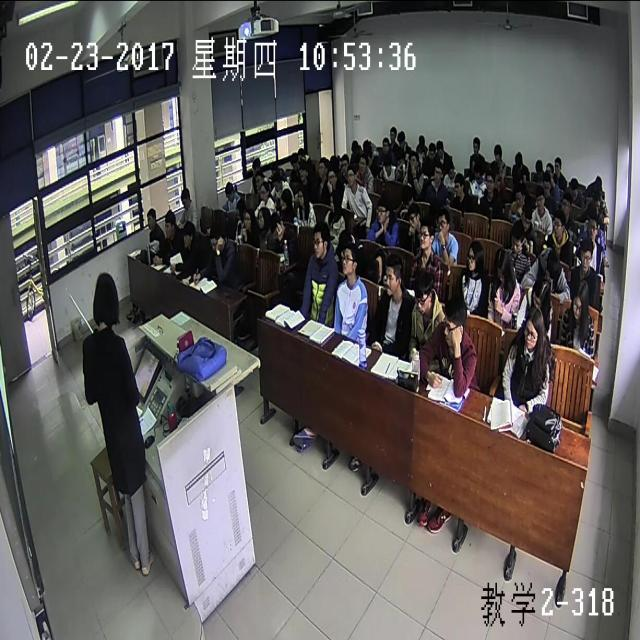person: (90, 270, 119, 329), (443, 294, 467, 346), (522, 302, 544, 352), (414, 268, 435, 315), (384, 254, 404, 299), (570, 279, 589, 323), (311, 218, 330, 256), (532, 281, 552, 317), (492, 246, 510, 284), (417, 217, 435, 252), (544, 246, 560, 284), (466, 242, 483, 274), (578, 238, 594, 272), (336, 226, 356, 253), (342, 242, 358, 275), (376, 192, 392, 224), (509, 221, 525, 252), (209, 224, 224, 256), (433, 206, 448, 238), (181, 220, 196, 250), (364, 254, 379, 284), (163, 209, 177, 239), (586, 214, 600, 244), (407, 202, 420, 234), (400, 184, 414, 212), (328, 186, 342, 213), (270, 209, 282, 239), (179, 185, 192, 210), (279, 188, 292, 213), (257, 205, 270, 229), (552, 212, 565, 236), (559, 192, 571, 218), (520, 205, 532, 230), (513, 184, 525, 208), (584, 198, 596, 221), (146, 207, 157, 231), (259, 179, 270, 203), (356, 153, 368, 175), (346, 165, 357, 188), (472, 162, 484, 183), (242, 206, 253, 228), (296, 184, 307, 206), (453, 171, 463, 195), (297, 161, 308, 182), (339, 150, 350, 171), (534, 185, 544, 208), (445, 156, 455, 178), (532, 154, 542, 176), (493, 140, 502, 164), (592, 190, 601, 214), (224, 178, 234, 199), (513, 149, 523, 170), (324, 168, 336, 185), (236, 195, 244, 220), (570, 174, 578, 199), (380, 153, 391, 171), (542, 172, 551, 194), (592, 173, 602, 192), (251, 153, 260, 174), (272, 170, 281, 191), (349, 136, 359, 154), (472, 132, 481, 152), (544, 160, 554, 178), (554, 154, 562, 176), (317, 157, 326, 176), (289, 152, 299, 169), (426, 140, 436, 157), (409, 151, 418, 169), (254, 170, 262, 190), (436, 138, 444, 158), (433, 161, 441, 181), (468, 151, 476, 171), (486, 172, 494, 192), (296, 146, 305, 163), (328, 152, 337, 169), (362, 136, 371, 153), (380, 135, 389, 152), (388, 123, 396, 141), (396, 129, 404, 146), (269, 160, 278, 175), (417, 132, 425, 148)
